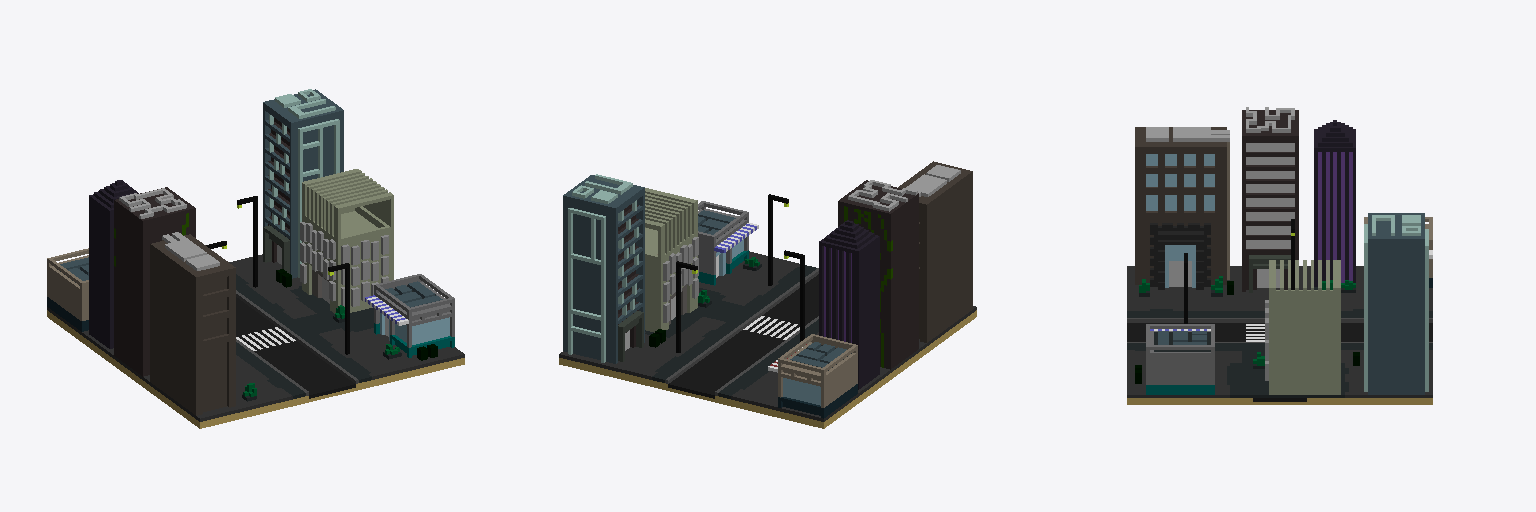
The picture shows the model from 3 angles: view 1: azimuth 30°, elevation 25°; view 2: azimuth 150°, elevation 25°; view 3: azimuth 270°, elevation 25°; orthographic projection.
Visible parts, largest first — view 1: cityStraight2; view 2: cityStraight2; view 3: cityStraight2.
Boxes of the visible parts, x1,y1,x2,y2 form: cityStraight2: [47, 89, 464, 428]; cityStraight2: [559, 161, 976, 428]; cityStraight2: [1127, 107, 1432, 404].
Size of the model in its own units: 80 by 49 by 80.
1 materials, 1 textured.